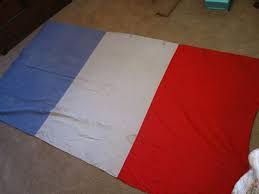French Flag: (4, 20, 252, 192)
